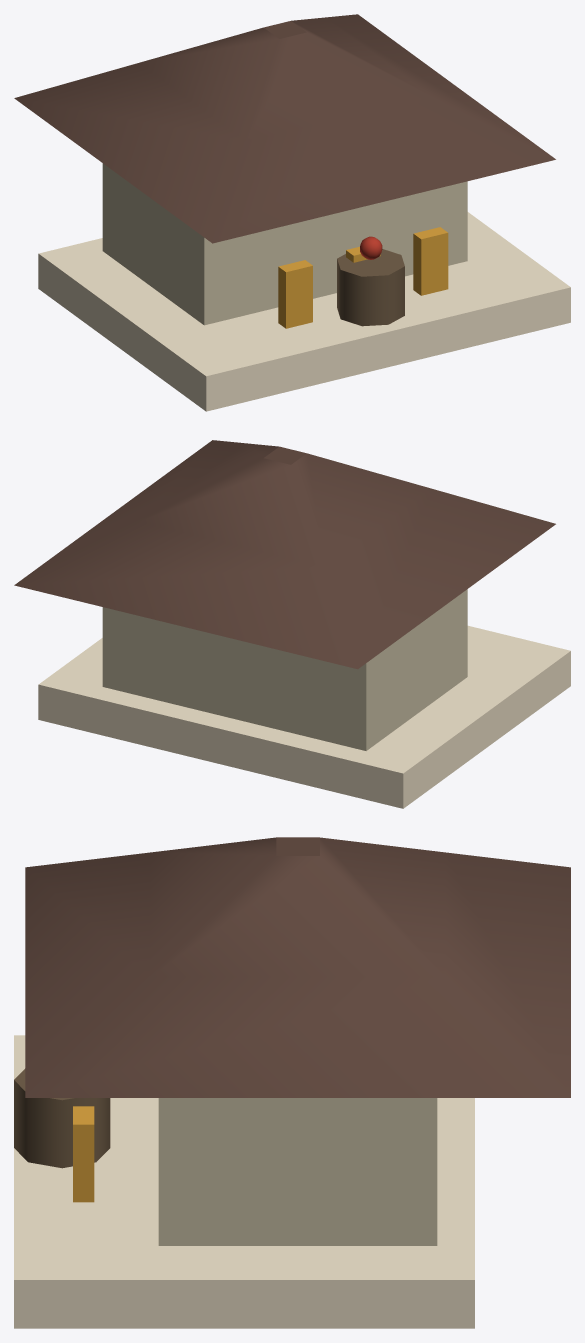
3 views of the same model, one above another, from view 1: azimuth 30°, elevation 25°; view 2: azimuth 150°, elevation 25°; view 3: azimuth 270°, elevation 25° (orthographic). The views are drawn at different scales.
Parts seen in each view (by area): view 1: _MeshInstance3D_119, _MeshInstance3D_117, _MeshInstance3D_118, _MeshInstance3D_123, _MeshInstance3D_122, _MeshInstance3D_120; view 2: _MeshInstance3D_119, _MeshInstance3D_117, _MeshInstance3D_118; view 3: _MeshInstance3D_119, _MeshInstance3D_117, _MeshInstance3D_118, _MeshInstance3D_123, _MeshInstance3D_122.
Boxes of the visible parts, bbox=[...] form: _MeshInstance3D_119: bbox=[14, 14, 555, 243]; _MeshInstance3D_117: bbox=[38, 212, 570, 411]; _MeshInstance3D_118: bbox=[102, 163, 467, 325]; _MeshInstance3D_123: bbox=[337, 249, 404, 326]; _MeshInstance3D_122: bbox=[413, 227, 448, 295]; _MeshInstance3D_120: bbox=[278, 260, 312, 328]; _MeshInstance3D_119: bbox=[14, 440, 555, 669]; _MeshInstance3D_117: bbox=[38, 625, 570, 808]; _MeshInstance3D_118: bbox=[102, 589, 467, 750]; _MeshInstance3D_119: bbox=[25, 837, 570, 1097]; _MeshInstance3D_117: bbox=[14, 1035, 474, 1328]; _MeshInstance3D_118: bbox=[158, 1098, 437, 1245]; _MeshInstance3D_123: bbox=[14, 1068, 110, 1168]; _MeshInstance3D_122: bbox=[73, 1106, 94, 1202].
Bounding box in the file's own units: 1.08 × 0.74 × 1.04.
